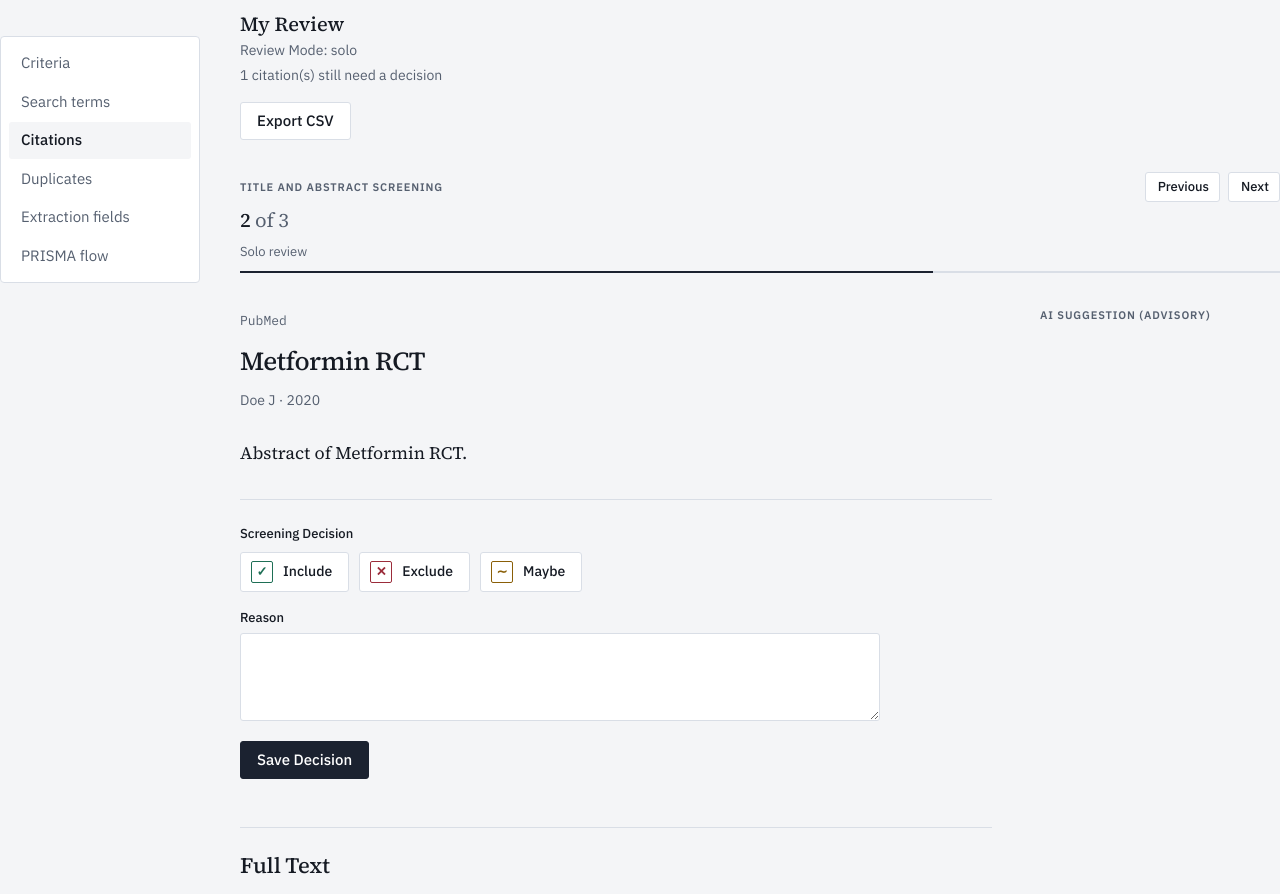
CitationScreeningPage screening frame › keyboard › drops the prompt as soon as a choice is made
The width and height of the screenshot is (1280, 894).
Expected: the element "Screening Decision" is shown, [240,526,582,592]
Click the button "Save Decision" at (305, 760), box [240,742,369,780]
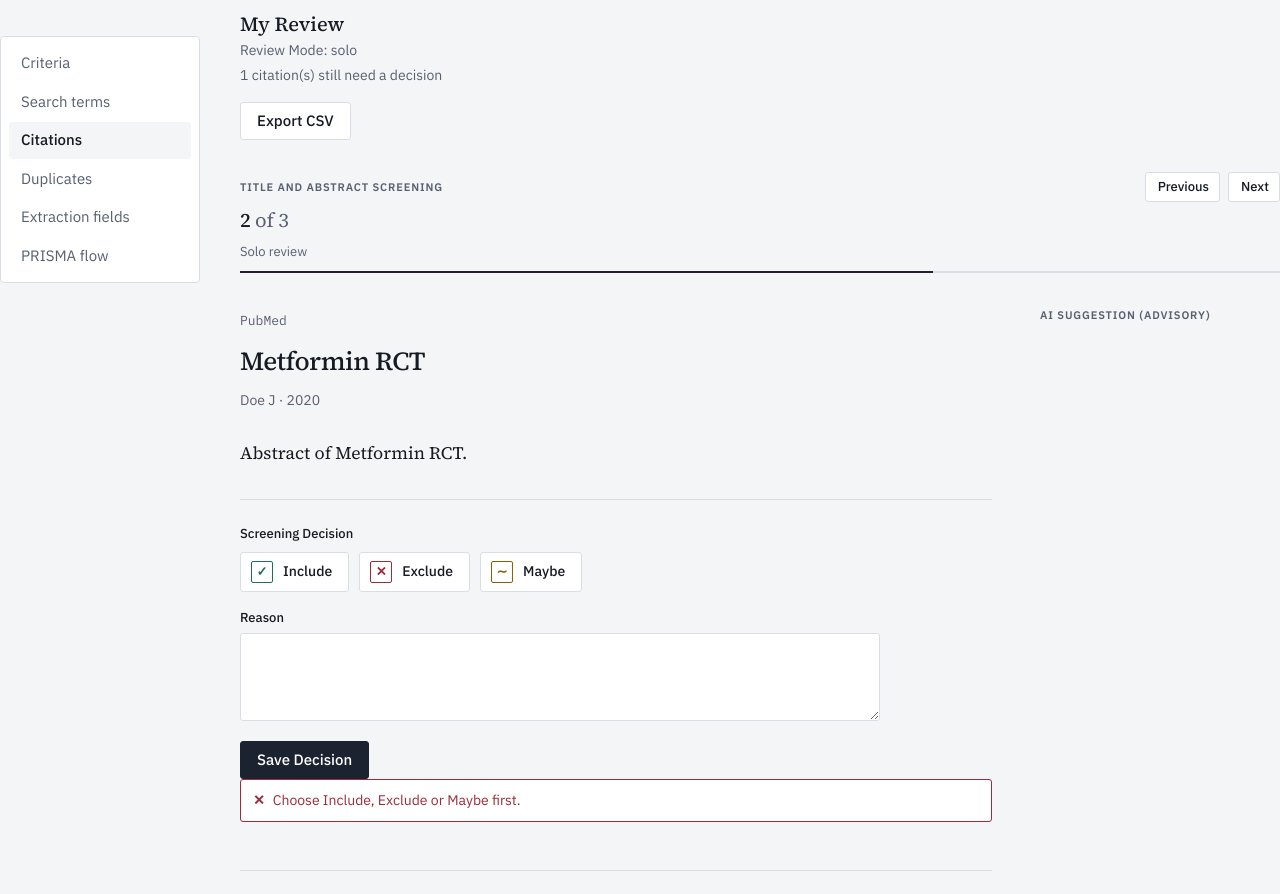
Expected: the text "Choose Include, Exclude or Maybe first." is shown, [240,780,992,822]
Press m
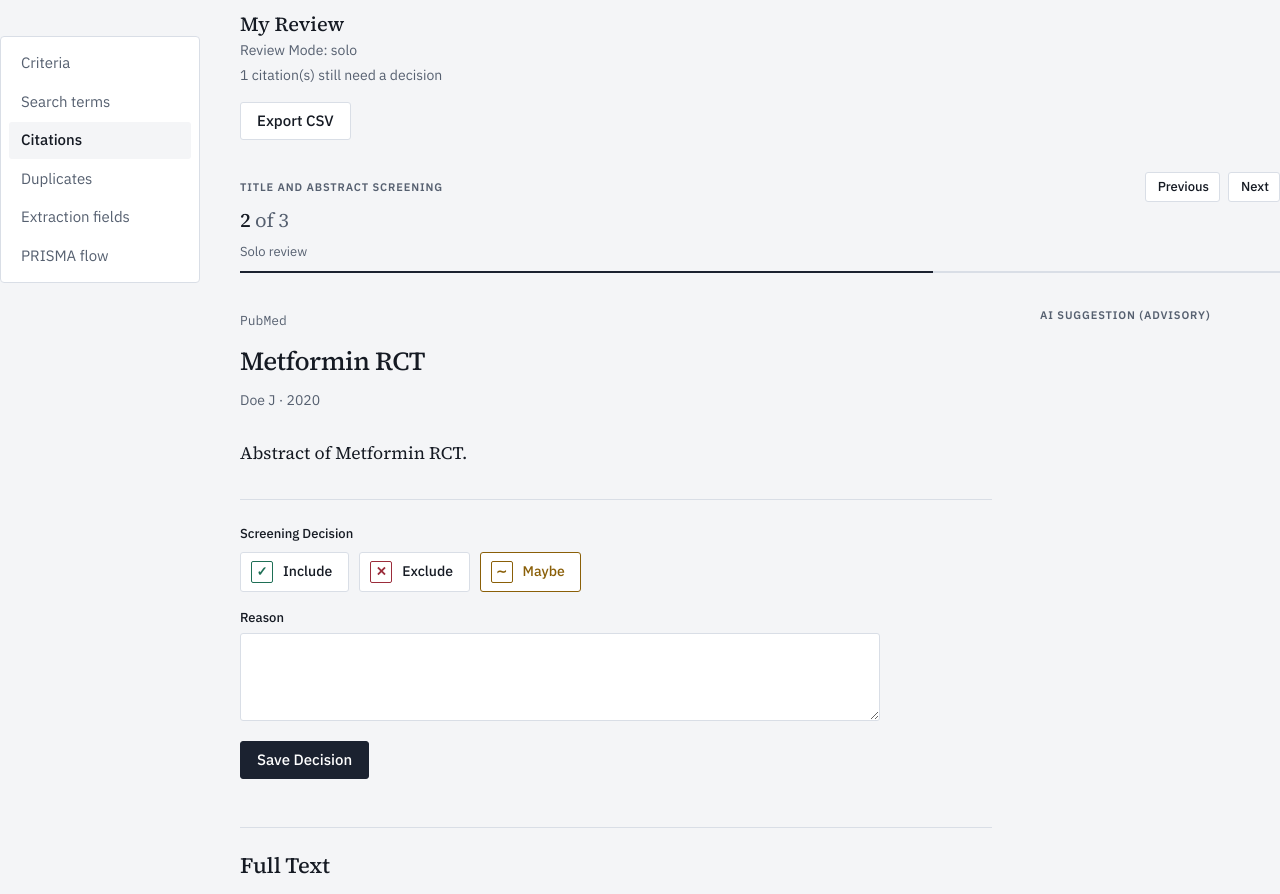
Expected: the text "Choose Include, Exclude or Maybe" is gone
